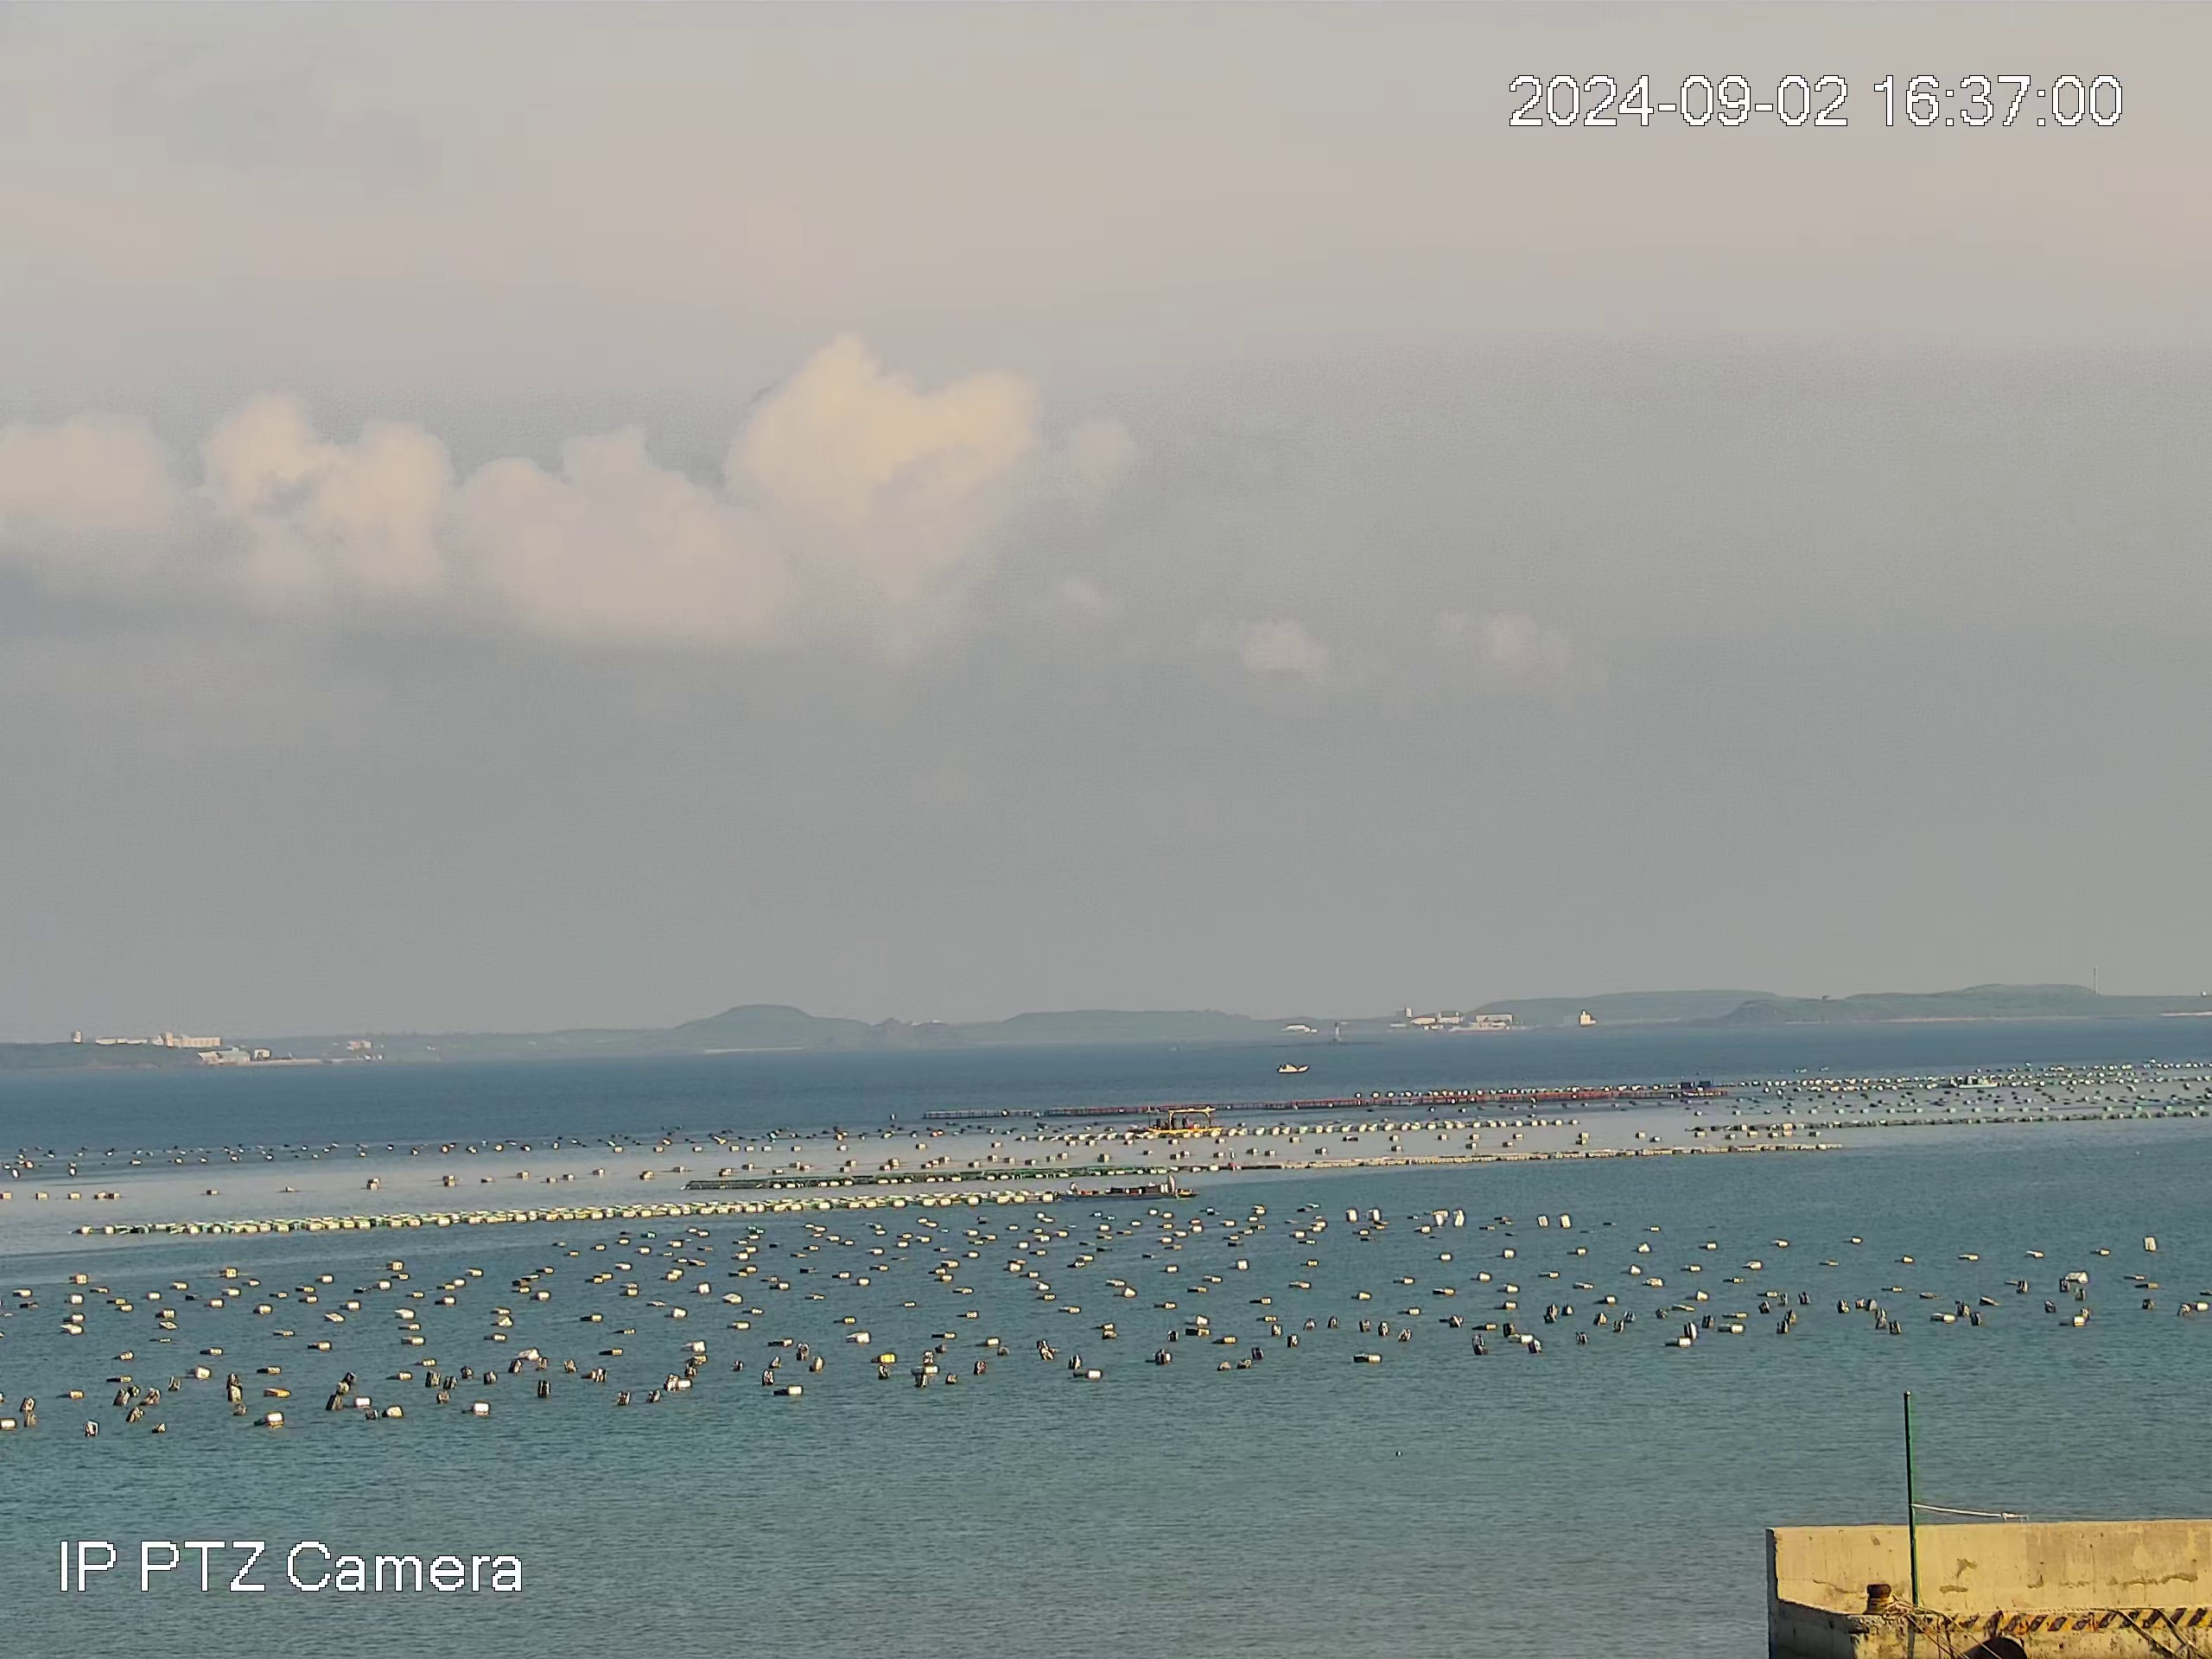boat: (1055, 1175, 1202, 1202), (1146, 1105, 1223, 1134), (1958, 1073, 1998, 1089), (1275, 1061, 1310, 1073)
